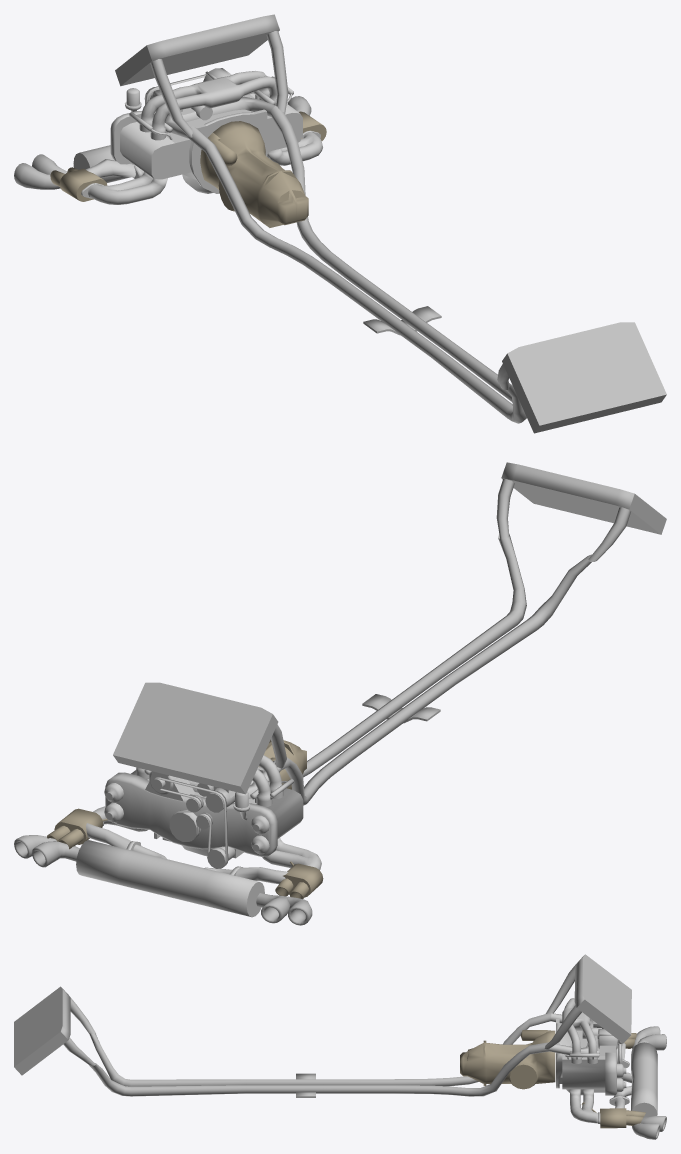
File: sbr_swap.dae
3 views of the same model, one above another, from view 1: azimuth 30°, elevation 25°; view 2: azimuth 150°, elevation 25°; view 3: azimuth 270°, elevation 25° (orthographic). The views are drawn at different scales.
Visible parts, largest first — view 1: sbr_radiator_synsol, sbr_engine_synsol, sbr_coolantlines_synsol, sbr_radiator_synsol_rear, autobello_gearbox_XL_synsol, sbr_exhaust_synsol_2, sbr_exhausttip_custom_synsol, autobello_exhaust_c_swap_3, sbr_muffler_synsol; view 2: sbr_engine_synsol, sbr_radiator_synsol_rear, sbr_coolantlines_synsol, sbr_muffler_synsol, sbr_radiator_synsol, sbr_exhausttip_custom_synsol, sbr_exhaust_synsol_2, autobello_exhaust_c_swap, autobello_exhaust_c_swap_3, autobello_gearbox_XL_synsol; view 3: sbr_coolantlines_synsol, sbr_engine_synsol, sbr_radiator_synsol_rear, sbr_radiator_synsol, autobello_gearbox_XL_synsol, sbr_muffler_synsol, sbr_exhausttip_custom_synsol, sbr_exhaust_synsol_2, autobello_exhaust_c_swap.
Boxes of the visible parts, bbox=[...] form: sbr_radiator_synsol: bbox=[497, 322, 666, 433]; sbr_engine_synsol: bbox=[110, 68, 302, 193]; sbr_coolantlines_synsol: bbox=[187, 106, 526, 423]; sbr_radiator_synsol_rear: bbox=[115, 14, 288, 137]; autobello_gearbox_XL_synsol: bbox=[200, 121, 308, 227]; sbr_exhaust_synsol_2: bbox=[81, 130, 322, 204]; sbr_exhausttip_custom_synsol: bbox=[14, 96, 311, 189]; autobello_exhaust_c_swap_3: bbox=[59, 168, 107, 201]; sbr_muffler_synsol: bbox=[73, 145, 143, 182]; sbr_engine_synsol: bbox=[104, 755, 303, 868]; sbr_radiator_synsol_rear: bbox=[113, 682, 286, 794]; sbr_coolantlines_synsol: bbox=[273, 534, 591, 805]; sbr_muffler_synsol: bbox=[76, 840, 264, 917]; sbr_radiator_synsol: bbox=[496, 462, 666, 561]; sbr_exhausttip_custom_synsol: bbox=[14, 835, 312, 925]; sbr_exhaust_synsol_2: bbox=[86, 806, 321, 884]; autobello_exhaust_c_swap: bbox=[54, 808, 107, 844]; autobello_exhaust_c_swap_3: bbox=[283, 861, 323, 897]; autobello_gearbox_XL_synsol: bbox=[258, 739, 306, 789]; sbr_coolantlines_synsol: bbox=[89, 1012, 551, 1097]; sbr_engine_synsol: bbox=[549, 998, 626, 1095]; sbr_radiator_synsol_rear: bbox=[544, 954, 631, 1049]; sbr_radiator_synsol: bbox=[14, 986, 95, 1075]; autobello_gearbox_XL_synsol: bbox=[460, 1030, 555, 1089]; sbr_muffler_synsol: bbox=[614, 1042, 657, 1117]; sbr_exhausttip_custom_synsol: bbox=[632, 1026, 666, 1139]; sbr_exhaust_synsol_2: bbox=[570, 1043, 629, 1123]; autobello_exhaust_c_swap: bbox=[581, 1102, 626, 1128].
Size of the model in its own units: 1.28 by 3.39 by 0.6988.
